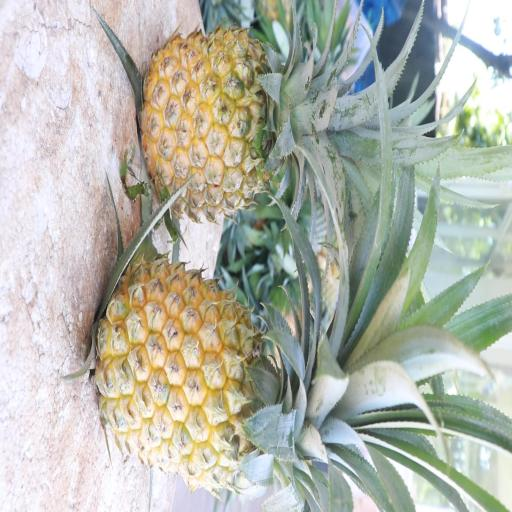Pineapple - v8 v1: (90, 251, 360, 501), (136, 24, 359, 230)
